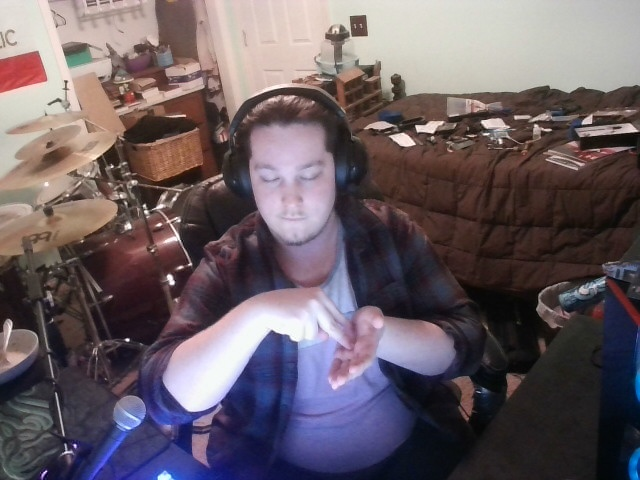fork: (258, 278, 397, 400)
